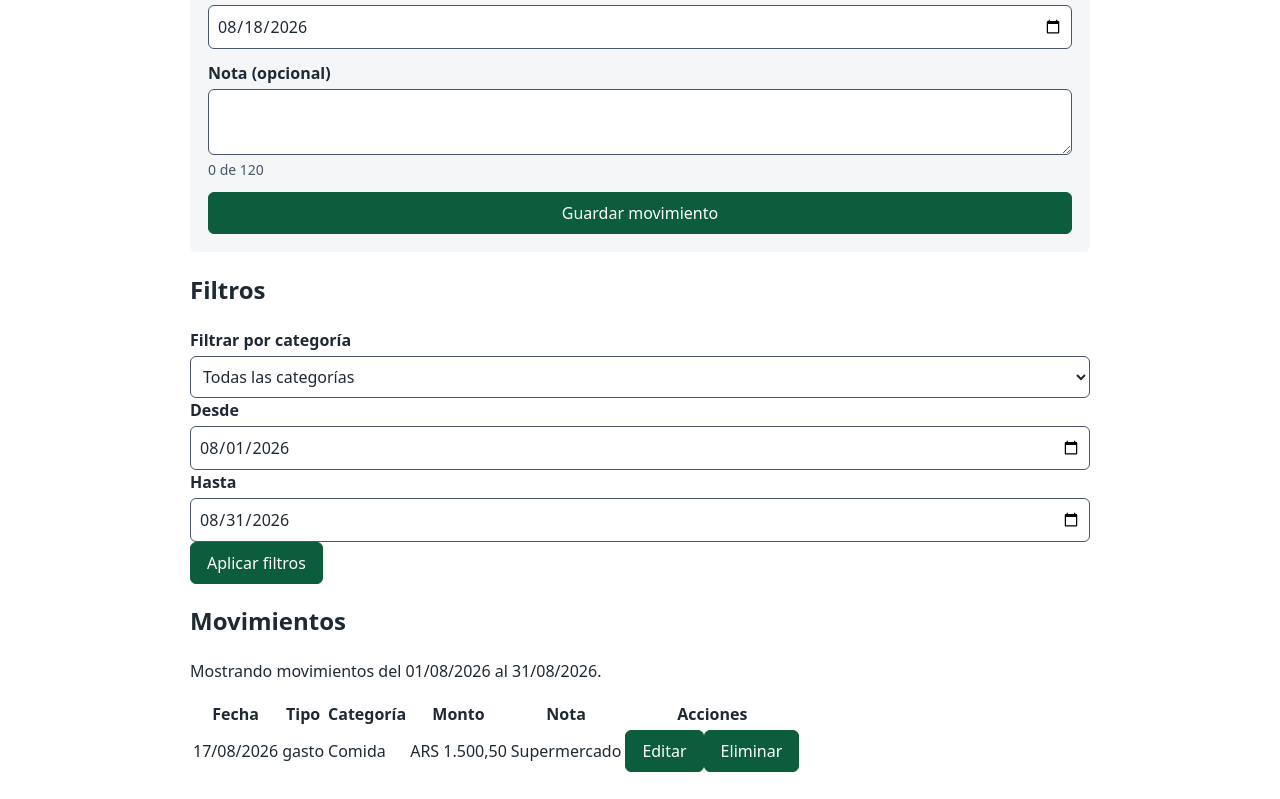
Scenario: App › Eliminar_AlConfirmar_QuitaLaFila
(page scrolled)
Expected: the text "ARS 1.500,50" is shown, [409,729,508,773]
Click the button with aria-label "Eliminar el movimiento del 17/08/2026 de Comida". click: click(751, 751)
box: [704,730,799,772]
(page scrolled)
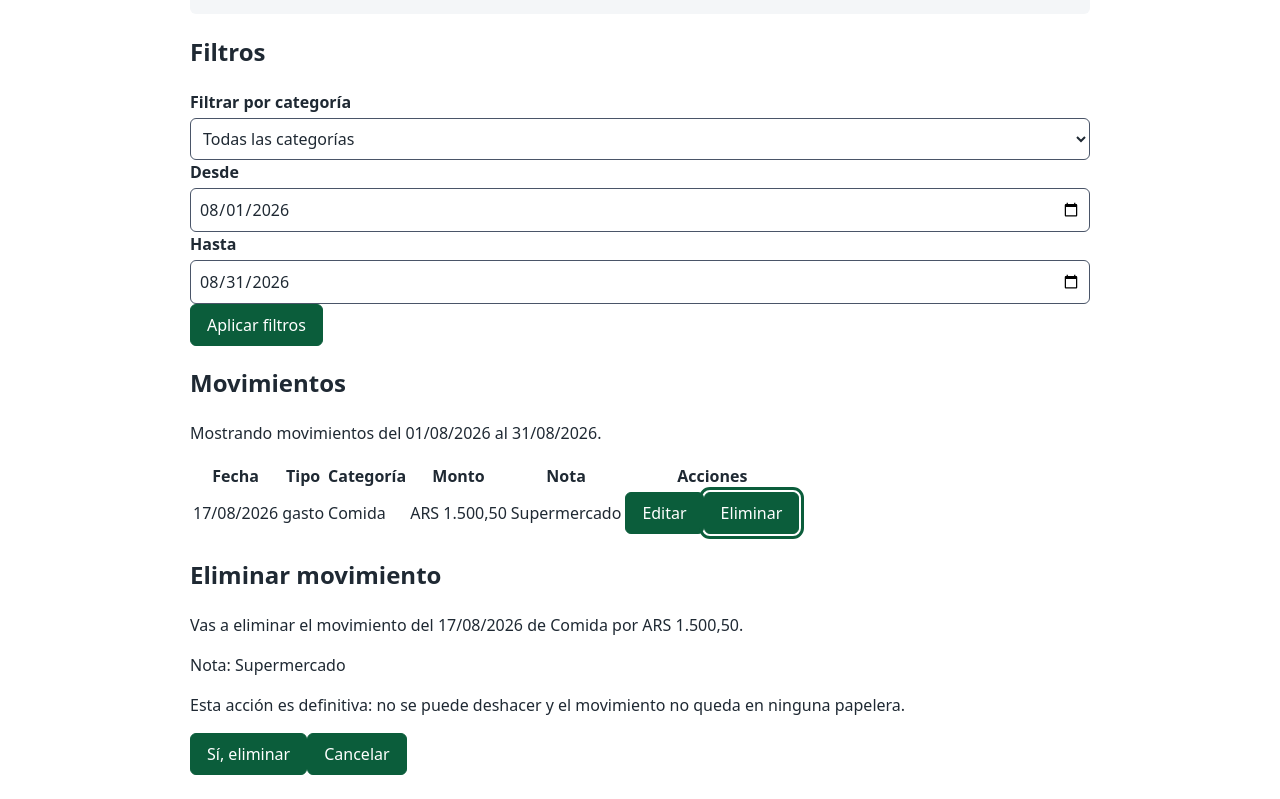
Expected: the dialog is shown, [190,558,905,775]
Click the button "Sí, eliminar". click: click(249, 754)
box: [190,733,307,775]
(page scrolled)
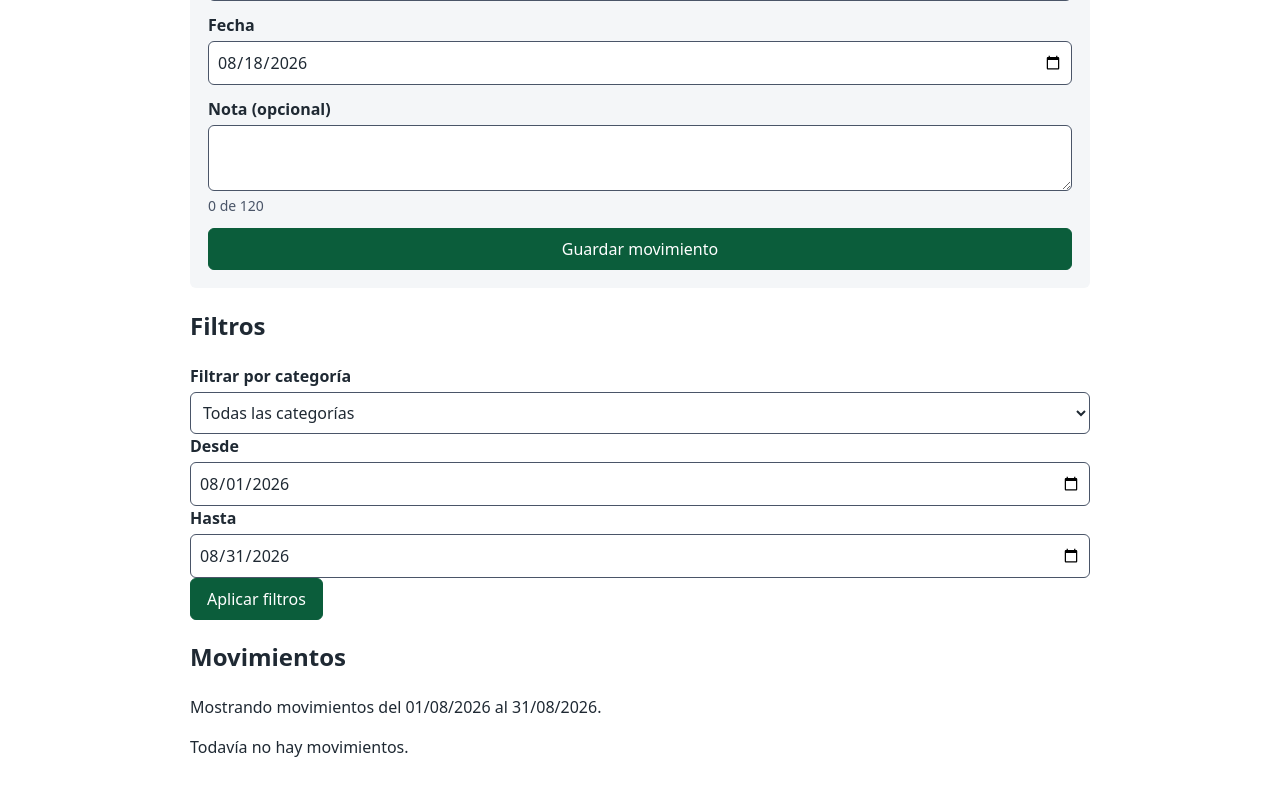
Expected: the text "Todavía no hay movimientos." is shown, [190,736,409,758]
Expected: the text "ARS 1.500,50" is gone
Expected: the dialog is gone
